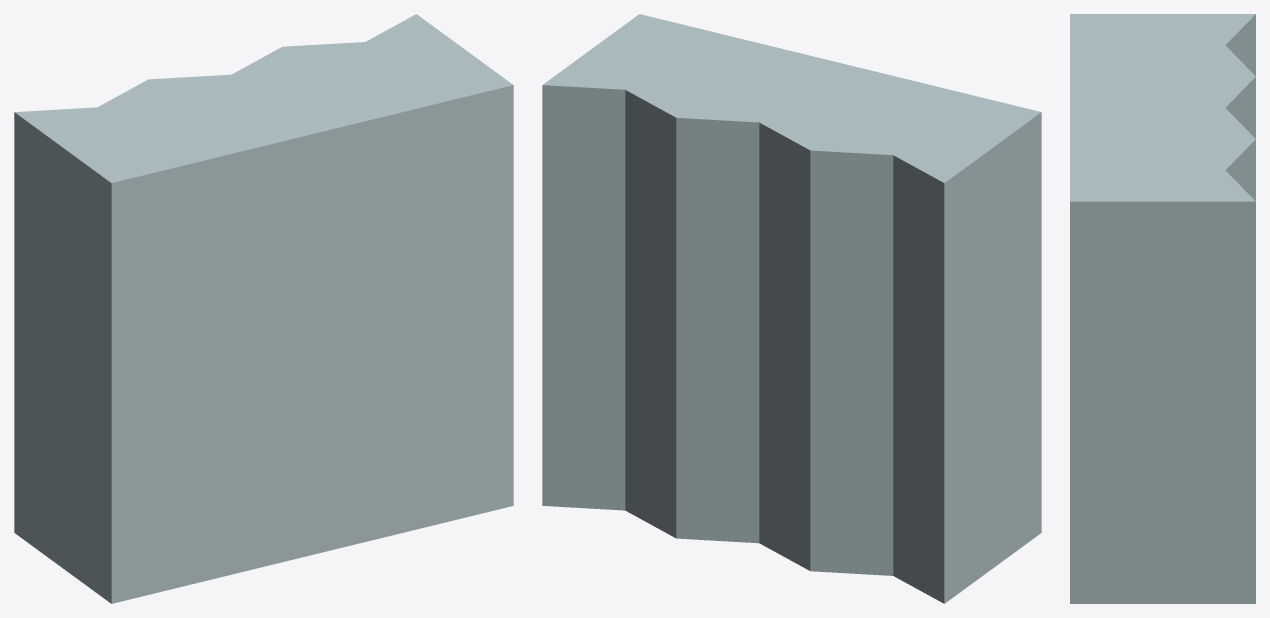
File: cliff_large_stone.glb
The picture shows the model from 3 angles, left to right: view 1: azimuth 30°, elevation 25°; view 2: azimuth 150°, elevation 25°; view 3: azimuth 270°, elevation 25°; orthographic projection. The views are drawn at different scales.
Parts seen in each view (by area): view 1: cliff_large_stone; view 2: cliff_large_stone; view 3: cliff_large_stone.
Boxes of the visible parts, bbox=[...] form: cliff_large_stone: bbox=[14, 14, 513, 603]; cliff_large_stone: bbox=[542, 14, 1041, 603]; cliff_large_stone: bbox=[1070, 14, 1255, 603].
Size of the model in its own units: 1 by 1 by 0.4185.
